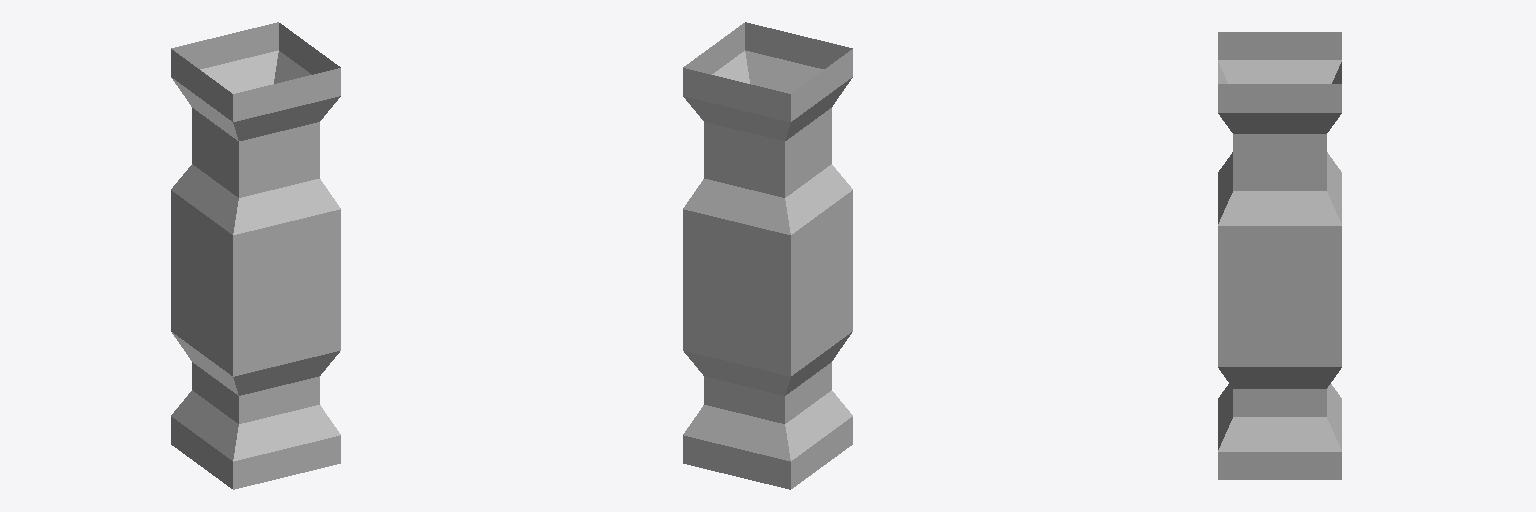
File: engine.obj
3 renders of one model, left to right at view 1: azimuth 30°, elevation 25°; view 2: azimuth 150°, elevation 25°; view 3: azimuth 270°, elevation 25°, orthographic.
Parts seen in each view (by area): view 1: Cube; view 2: Cube; view 3: Cube.
Boxes of the visible parts, <box> form: Cube: <box>171,22,340,489</box>; Cube: <box>683,22,852,489</box>; Cube: <box>1218,32,1341,479</box>.
Size of the model in its own units: 1 by 3.5 by 1.